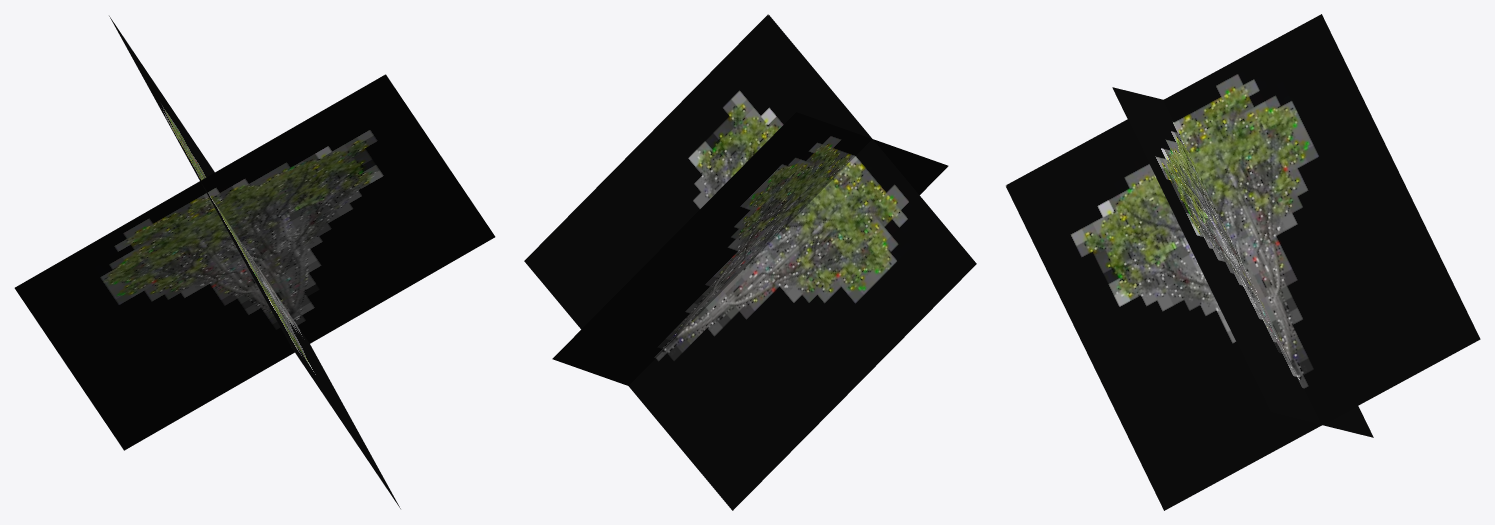
The model's file is overgrown-card-b.glb.
3 renders of one model, left to right at view 1: azimuth 30°, elevation 25°; view 2: azimuth 150°, elevation 25°; view 3: azimuth 270°, elevation 25°, orthographic. The views are drawn at different scales.
Visible parts, largest first — view 1: Plane|Plane002|Dupli|711; view 2: Plane|Plane002|Dupli|711; view 3: Plane|Plane002|Dupli|711.
Part boxes in pixels (x1,y1,x2,y2): Plane|Plane002|Dupli|711: [14, 16, 495, 508]; Plane|Plane002|Dupli|711: [524, 14, 976, 510]; Plane|Plane002|Dupli|711: [1005, 14, 1480, 510].
Size of the model in its own units: 8.13 by 7.25 by 7.58.
1 material, 1 textured.
